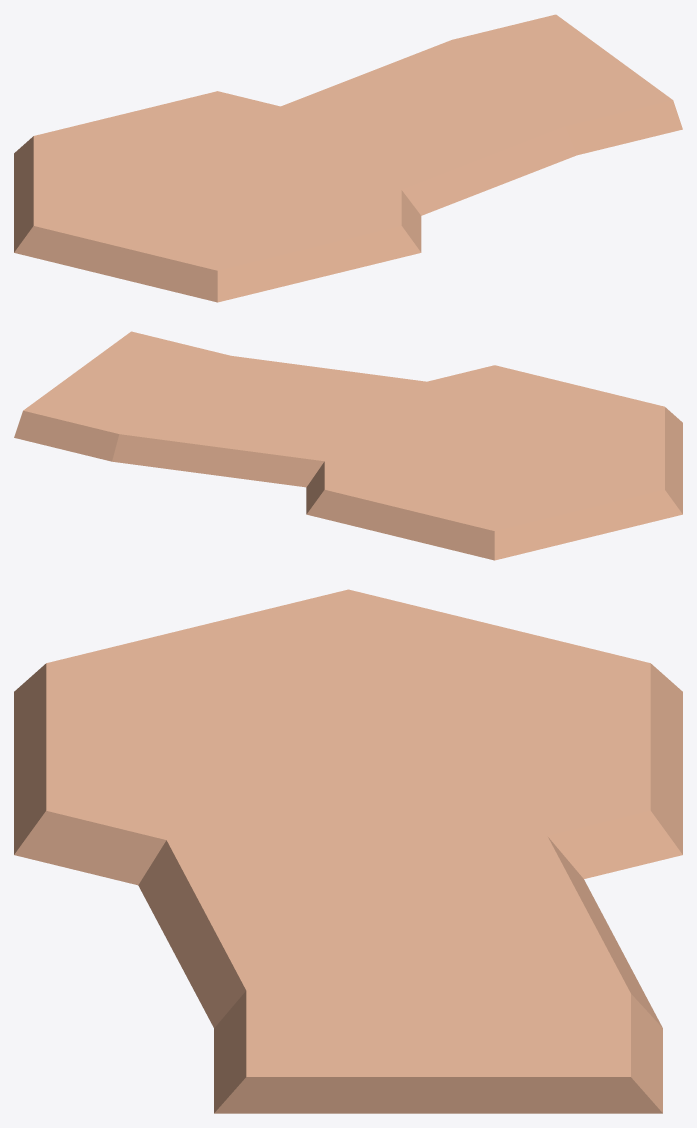
File: path_start.glb
3 renders of one model, top to bottom at view 1: azimuth 30°, elevation 25°; view 2: azimuth 150°, elevation 25°; view 3: azimuth 270°, elevation 25°, orthographic. The views are drawn at different scales.
Parts seen in each view (by area): view 1: path_start; view 2: path_start; view 3: path_start.
Boxes of the visible parts, x1=… form: path_start: x1=14, y1=14, x2=682, y2=302; path_start: x1=14, y1=331, x2=682, y2=560; path_start: x1=14, y1=589, x2=682, y2=1113.
Bounding box in the file's own units: 0.74 × 0.025 × 0.4157.
